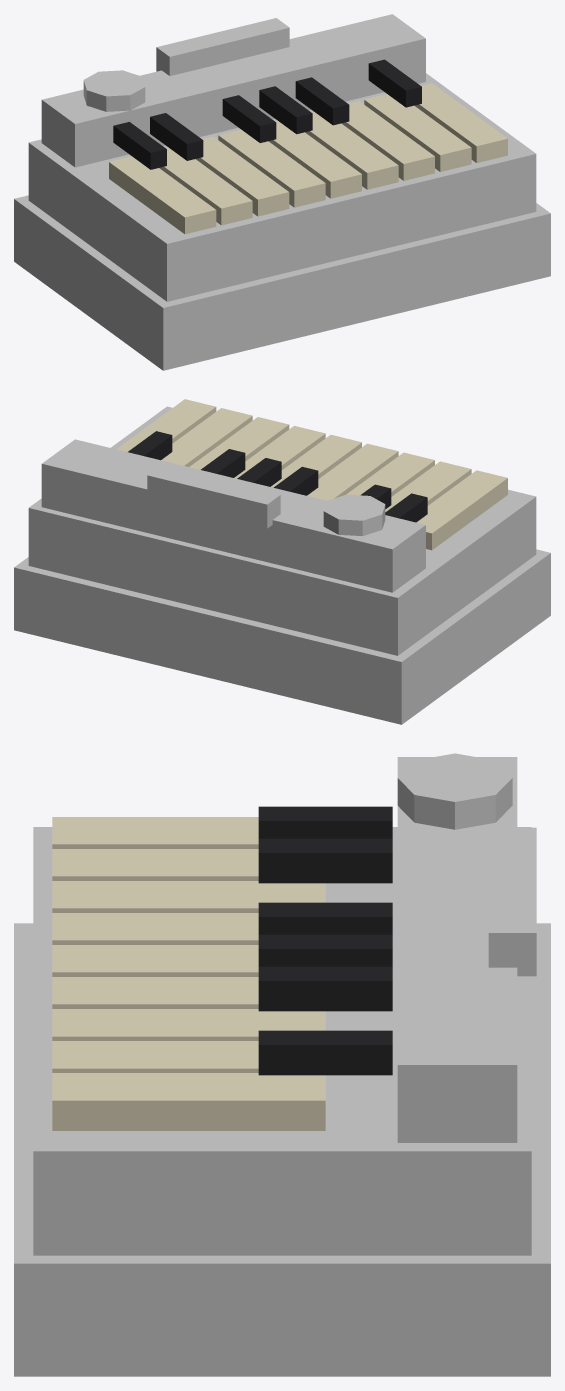
File: baby_piano.obj
3 renders of one model, top to bottom at view 1: azimuth 30°, elevation 25°; view 2: azimuth 150°, elevation 25°; view 3: azimuth 270°, elevation 25°, orthographic. The views are drawn at different scales.
Visible parts, largest first — view 1: baby_piano; view 2: baby_piano; view 3: baby_piano.
Boxes of the visible parts, x1=… form: baby_piano: x1=14, y1=14, x2=550, y2=370; baby_piano: x1=14, y1=399, x2=550, y2=724; baby_piano: x1=14, y1=753, x2=550, y2=1376.
Bounding box in the file's own units: 0.84 × 0.38 × 0.56.
